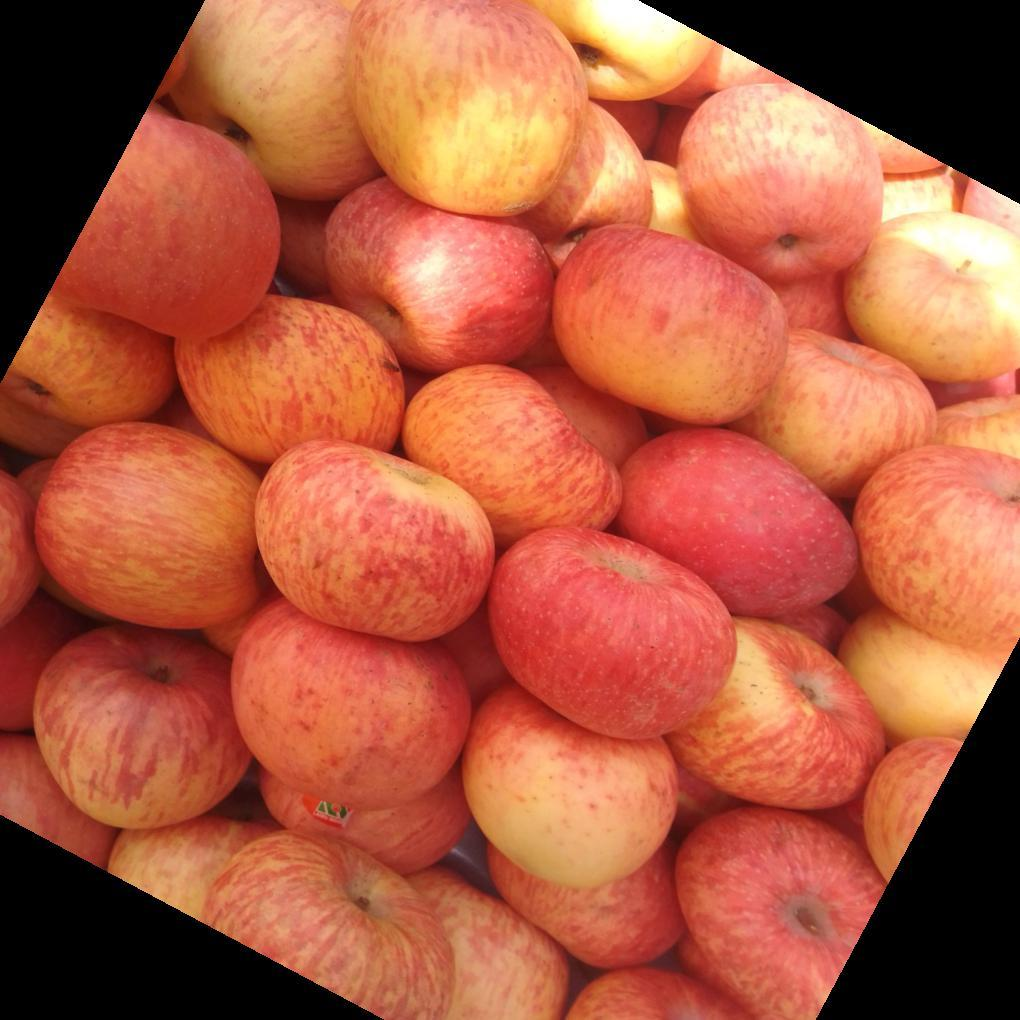FreshGuava: (11, 8, 1020, 1020)
